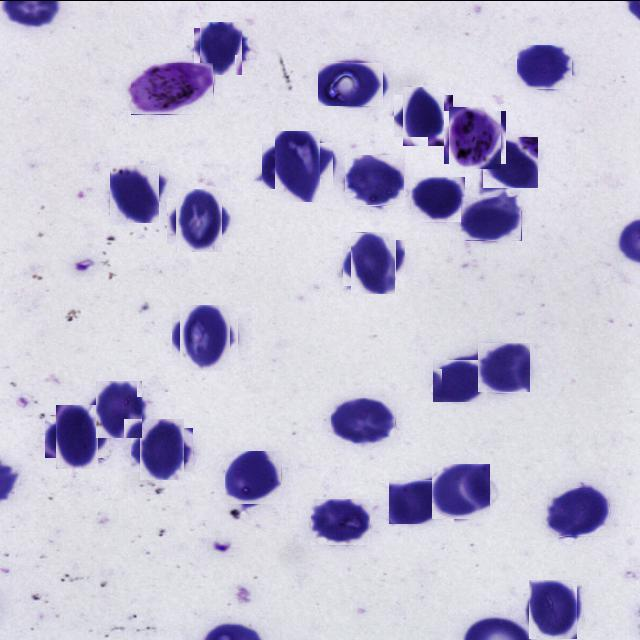difficult: (446, 108, 504, 166)
gametocyte: (131, 62, 214, 114)
red blood cell: (176, 308, 234, 366), (268, 136, 326, 194), (432, 463, 490, 518), (547, 487, 610, 536), (225, 450, 282, 504), (345, 154, 405, 205), (331, 397, 396, 444), (172, 192, 226, 247), (346, 234, 401, 288), (526, 582, 580, 636), (50, 408, 104, 462), (108, 166, 162, 220), (316, 60, 382, 104), (389, 479, 454, 523), (136, 422, 188, 476), (483, 136, 538, 187), (311, 498, 370, 544), (93, 383, 145, 435), (461, 196, 522, 240), (478, 342, 531, 392), (517, 44, 573, 89), (398, 90, 448, 140), (411, 176, 465, 221), (433, 359, 488, 402), (197, 24, 245, 72)
